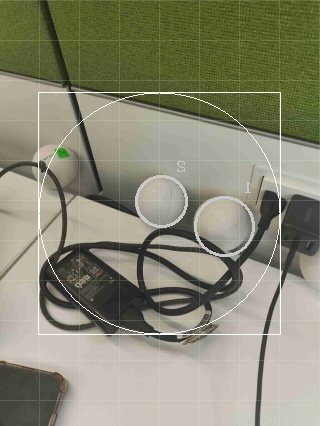Pelota blanca: (0, 361, 68, 425), (194, 193, 257, 256), (135, 174, 191, 230), (37, 142, 81, 192)
Pelota negra: (0, 363, 71, 425)
